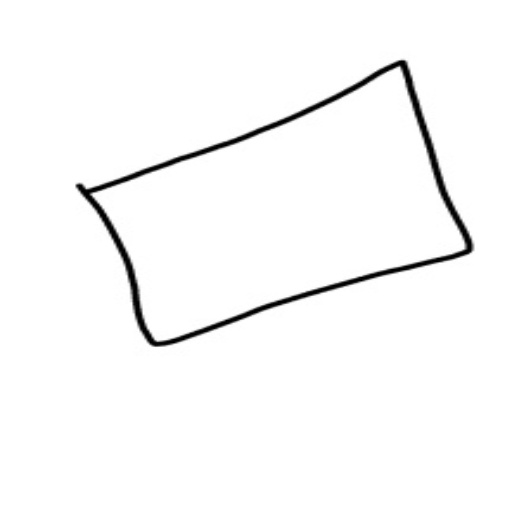rectangle: (69, 50, 481, 365)
